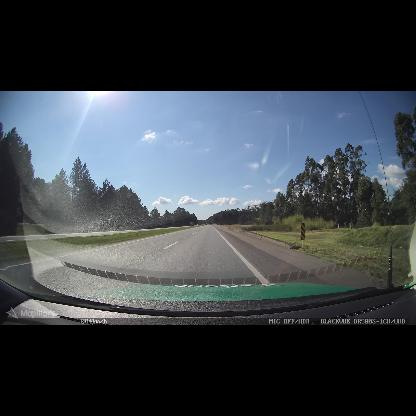O-MP: (300, 222, 306, 241)
